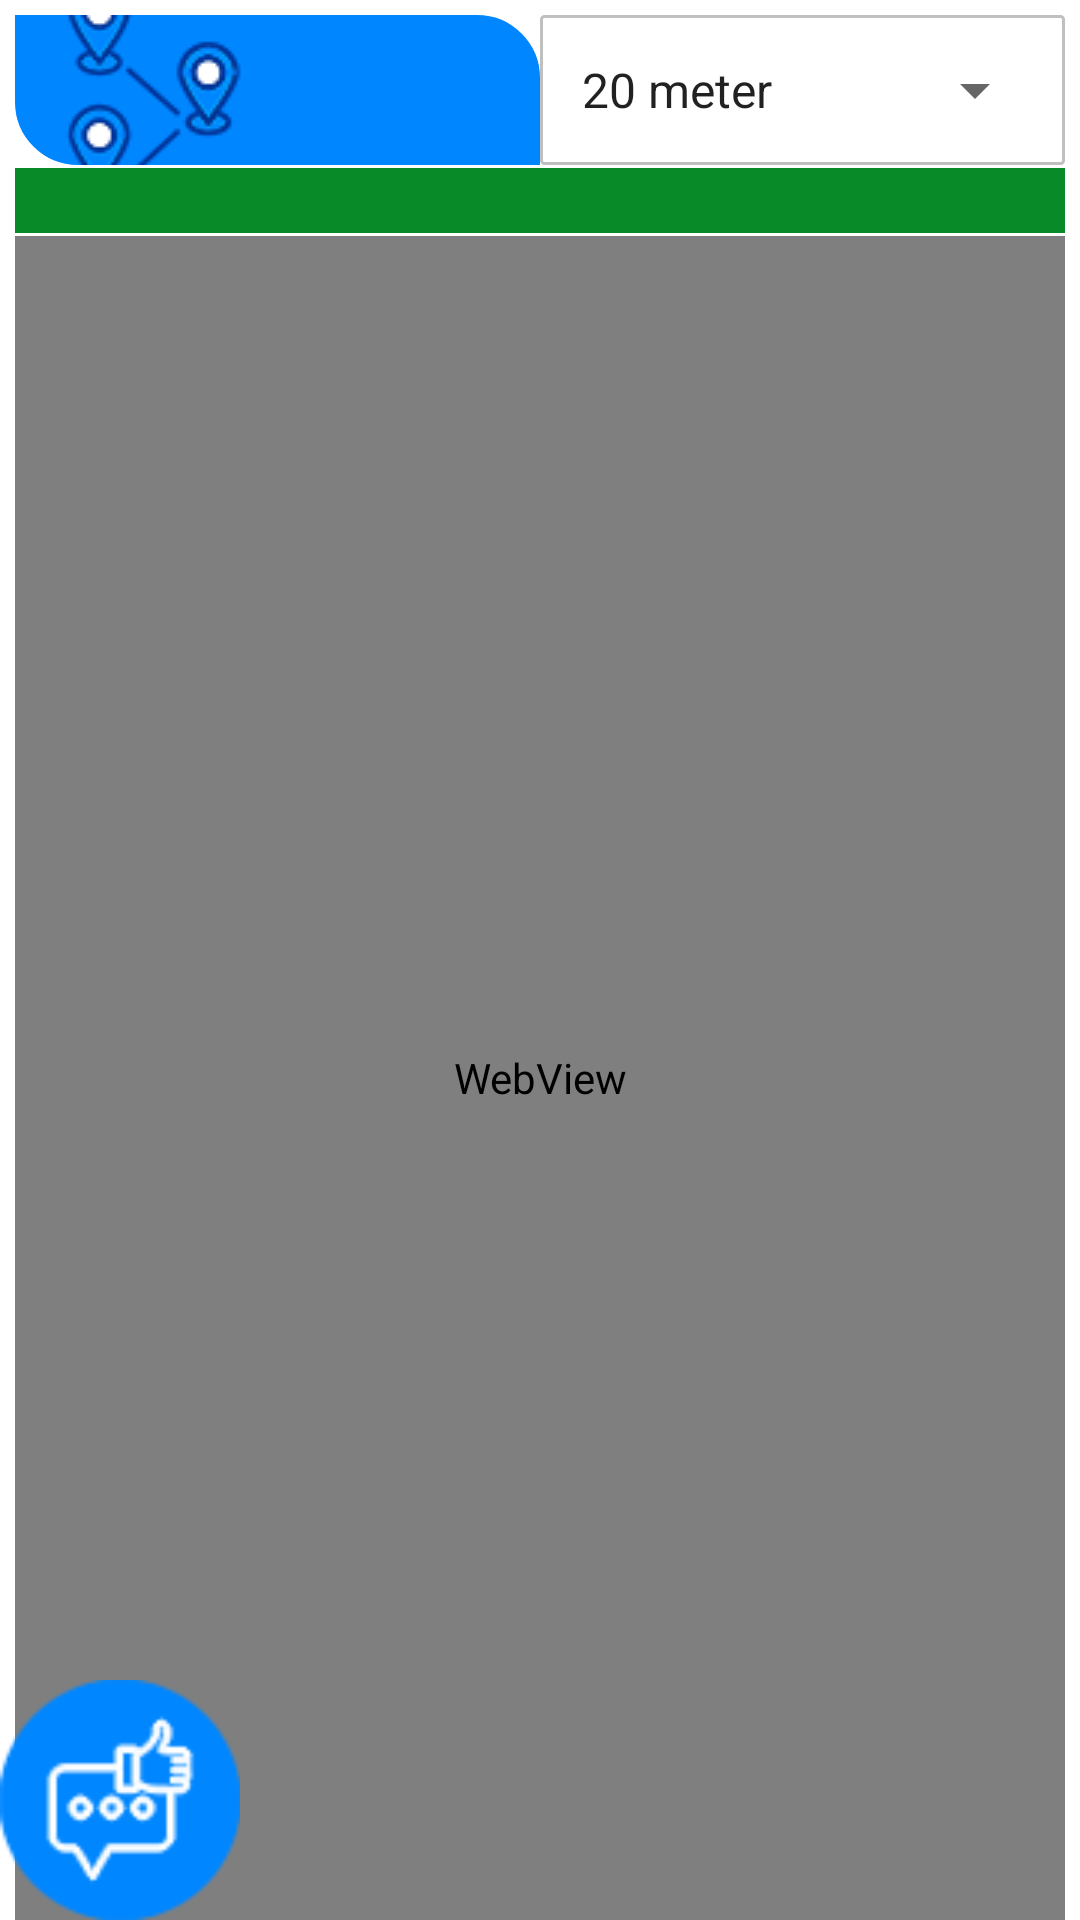

Where icons sit on this 1080 × 1920 app screen, as (x1, y1, x2, y2):
feedback circle: (0, 1680, 240, 1920)
